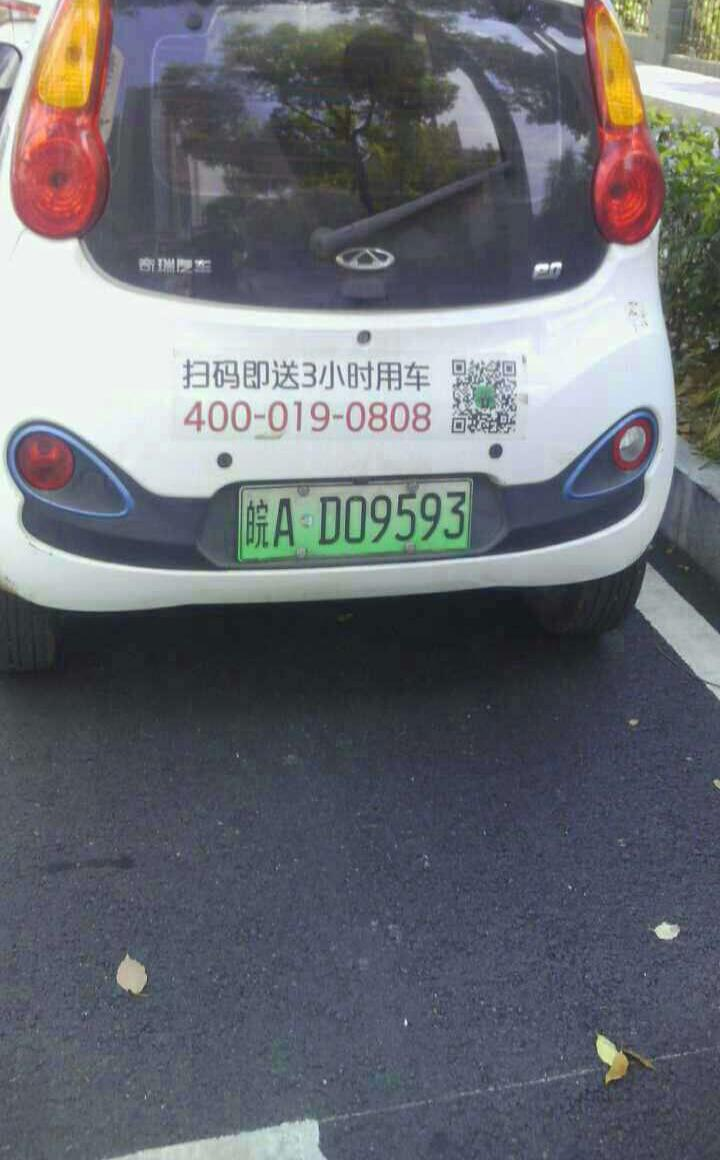car_id: (235, 478, 473, 560)
